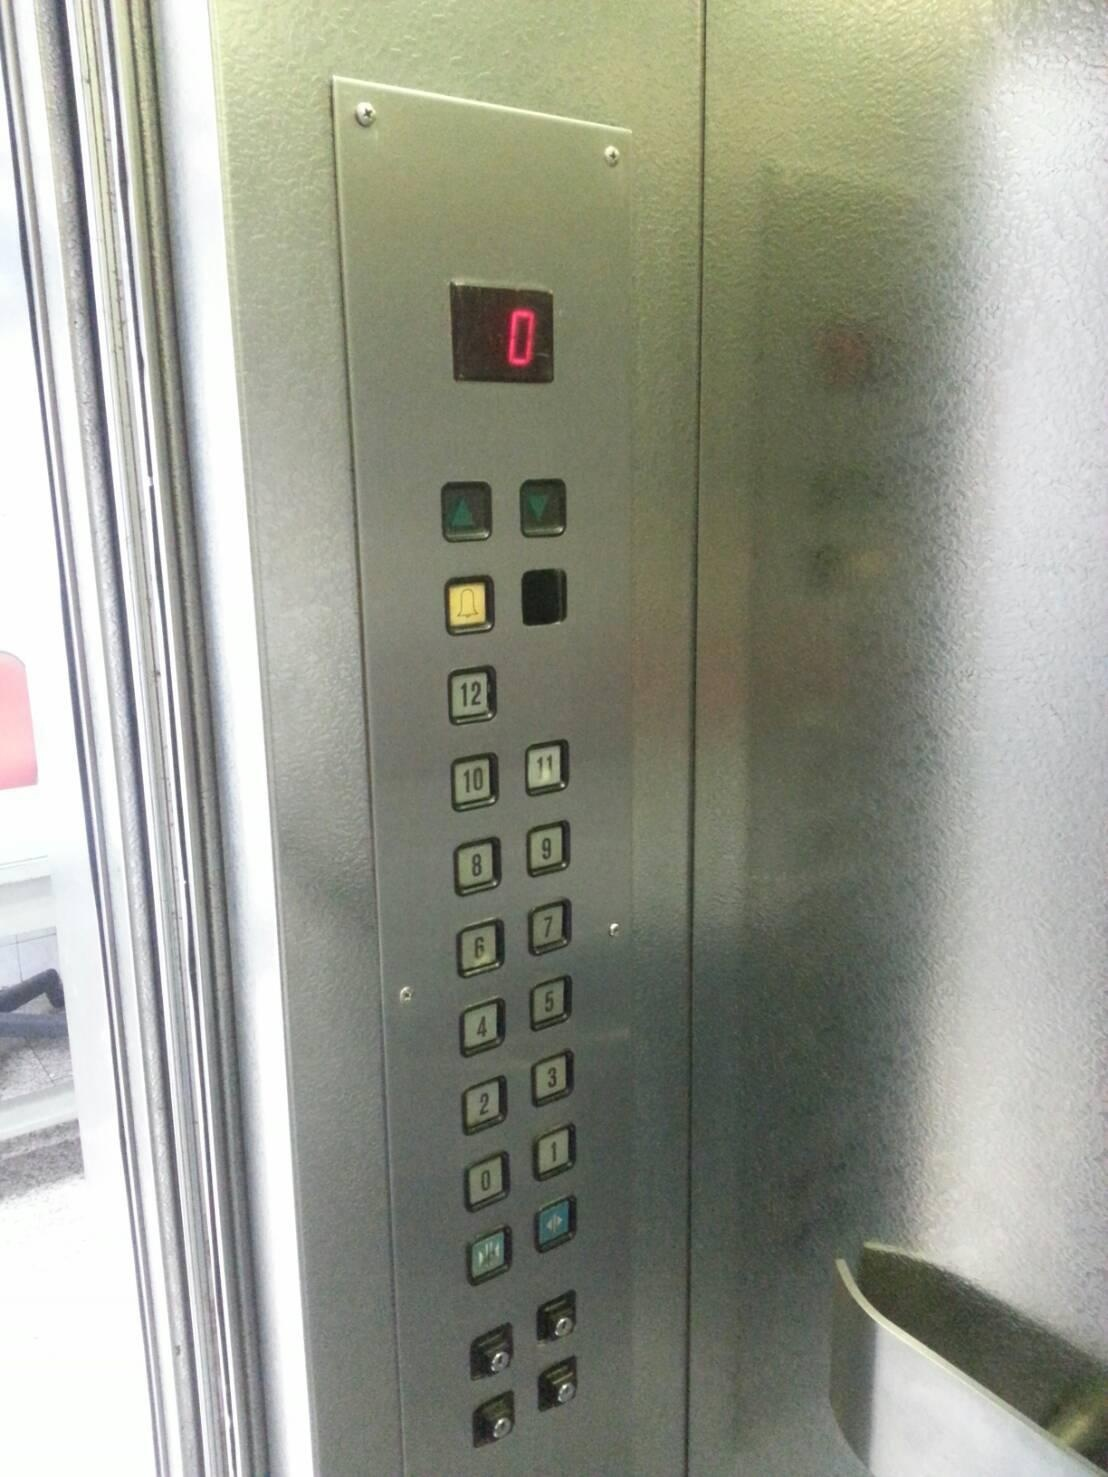0: (462, 1150, 510, 1213)
1: (532, 1119, 576, 1185)
10: (452, 750, 499, 814)
11: (523, 736, 569, 797)
12: (447, 666, 497, 724)
2: (461, 1074, 507, 1137)
3: (530, 1048, 574, 1109)
4: (457, 997, 505, 1059)
5: (532, 973, 573, 1031)
6: (456, 917, 505, 982)
7: (528, 900, 570, 959)
8: (453, 835, 500, 899)
9: (524, 818, 569, 880)
alarm: (440, 571, 496, 637)
close: (463, 1220, 512, 1287)
down: (518, 476, 569, 537)
empty: (517, 567, 568, 626)
keyhole: (470, 1318, 513, 1380), (473, 1387, 516, 1450), (537, 1286, 576, 1349), (539, 1351, 578, 1414)
led: (452, 283, 556, 390)
open: (535, 1191, 578, 1257)
up: (439, 480, 493, 542)
